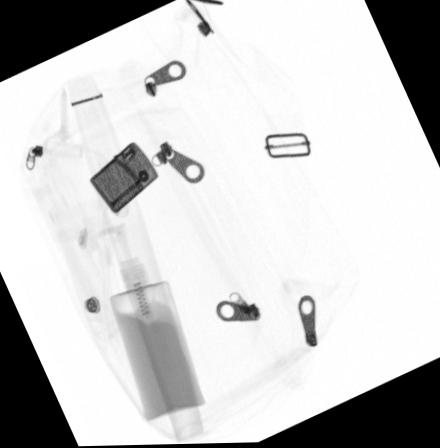Lighter: (88, 140, 159, 214)
